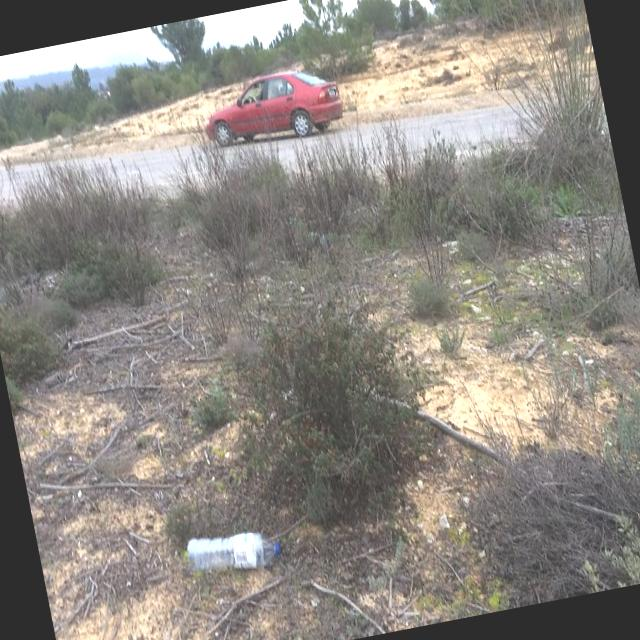Recycle: (180, 520, 286, 584)
